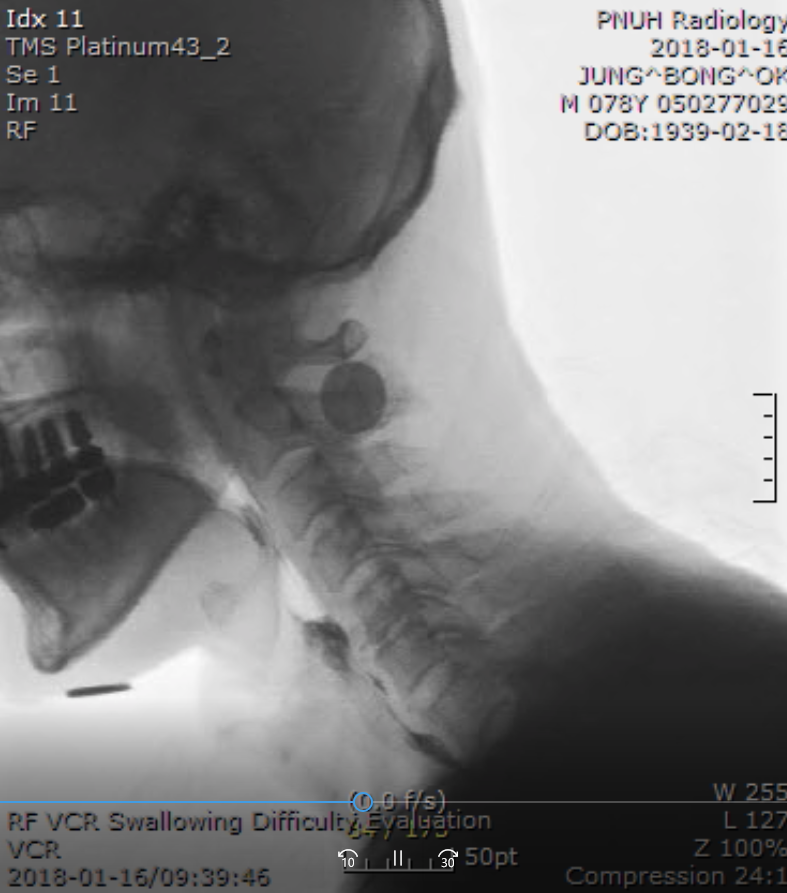dros: (283, 567, 345, 641)
food: (276, 599, 350, 679)
uros: (218, 497, 274, 566)
